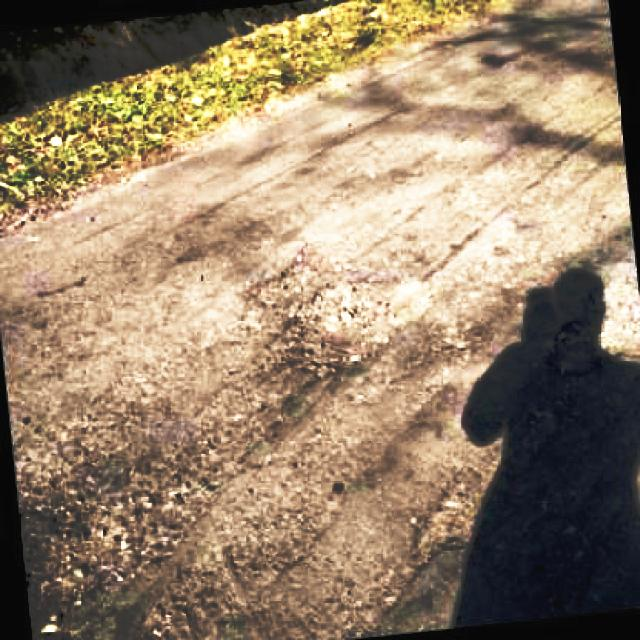pothole: (417, 272, 640, 623), (18, 454, 218, 640), (239, 257, 426, 378)
